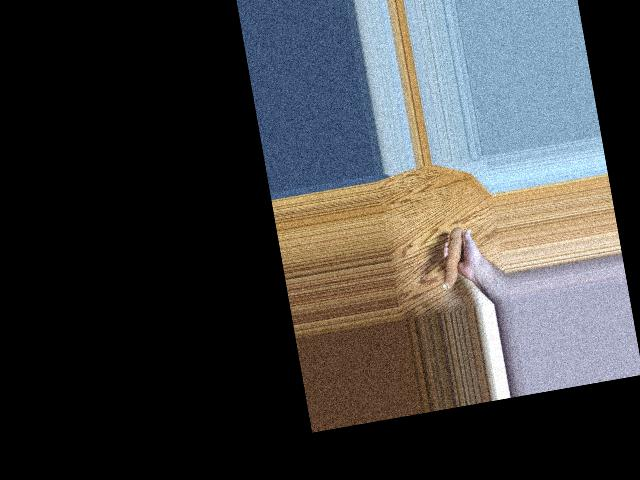sweet_potato: (433, 226, 472, 292)
